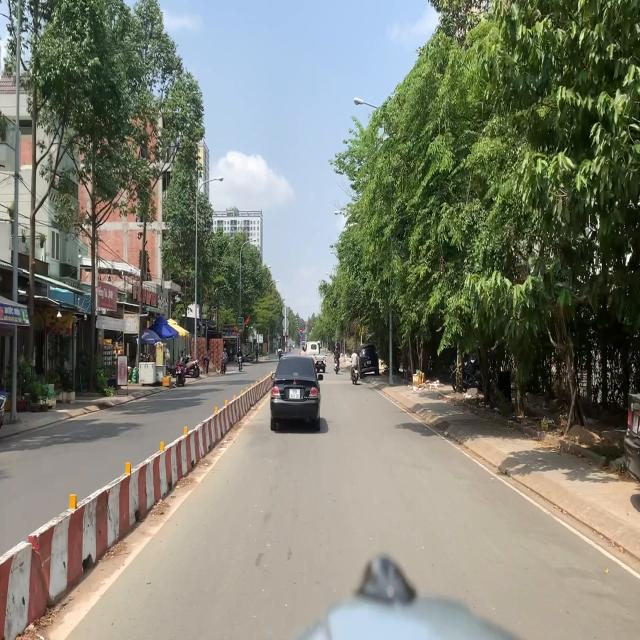Cam nguoc chieu: (300, 327, 302, 333)
Hieu lenh: (299, 333, 302, 338)
